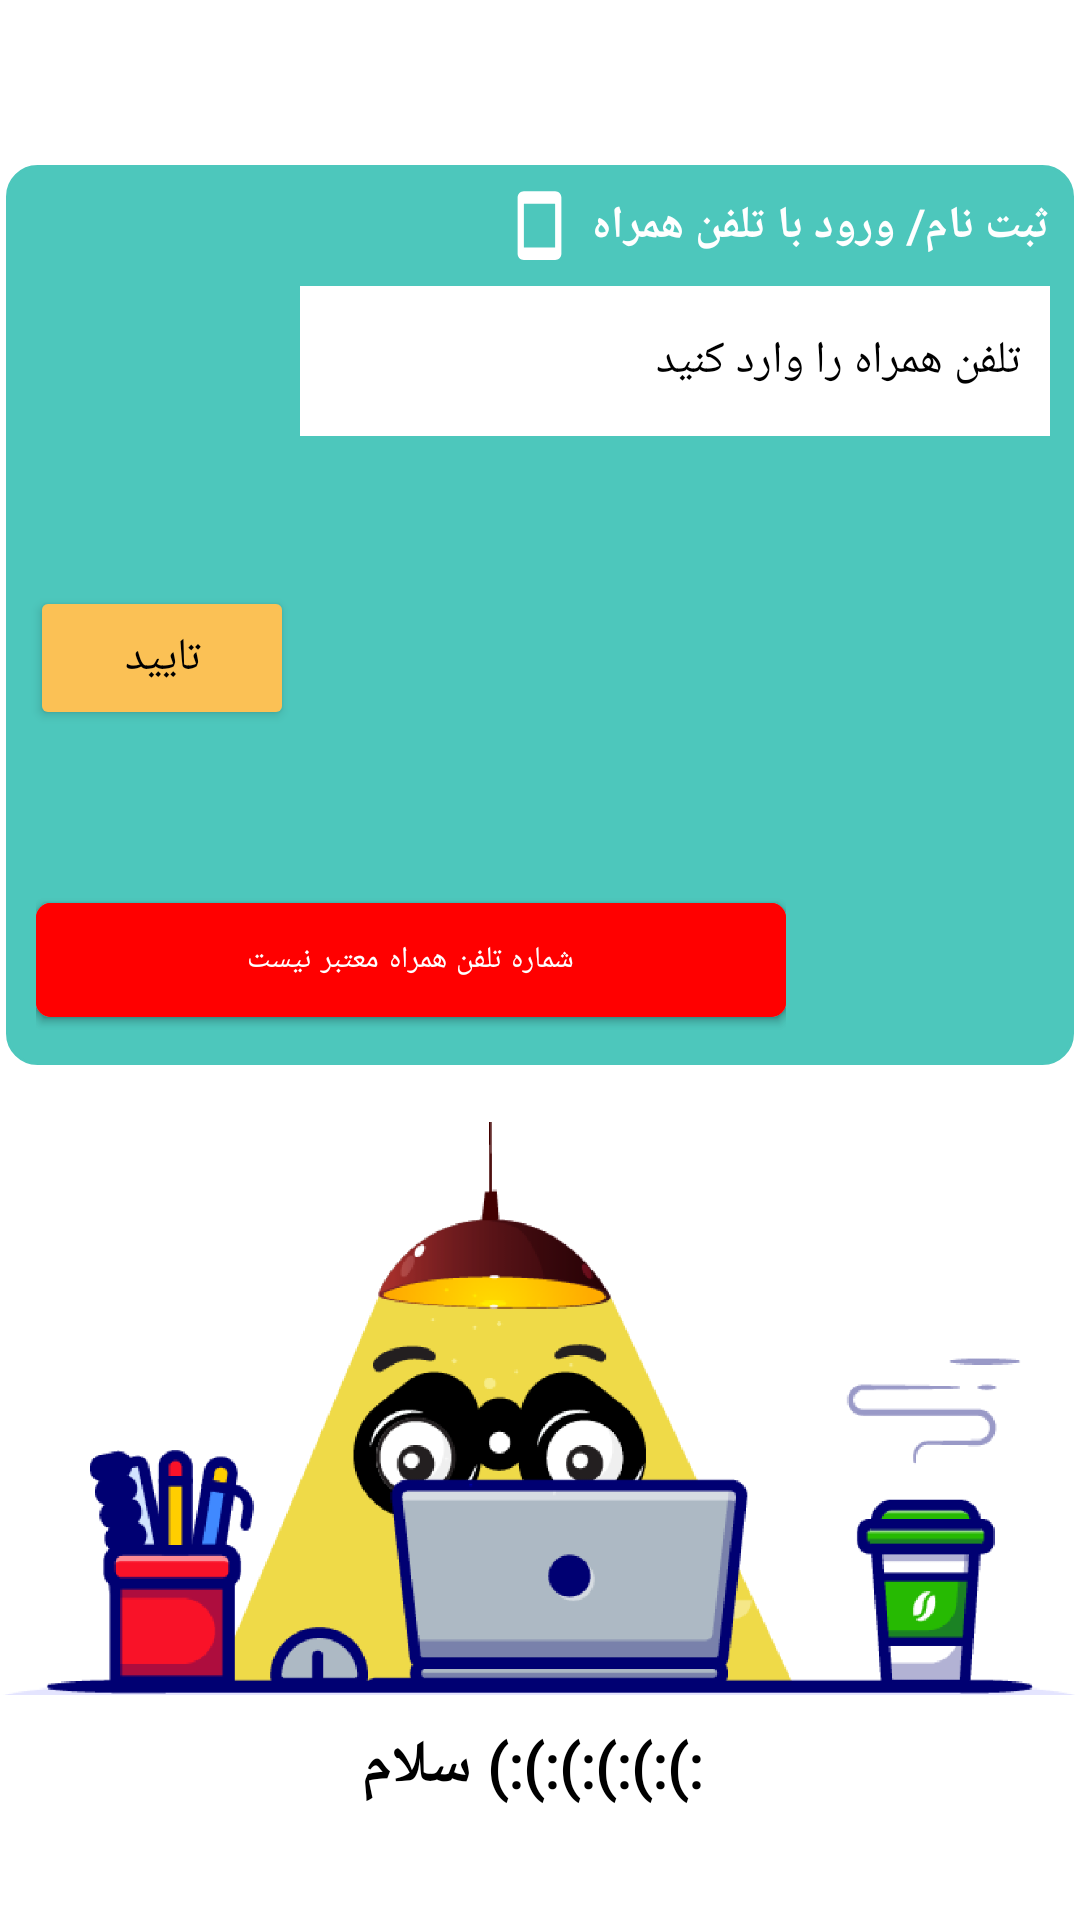

Icons on this 1080 x 1920 Android screen, each with its box as (x1, y1, x2, y2):
phone: (517, 191, 562, 260)
